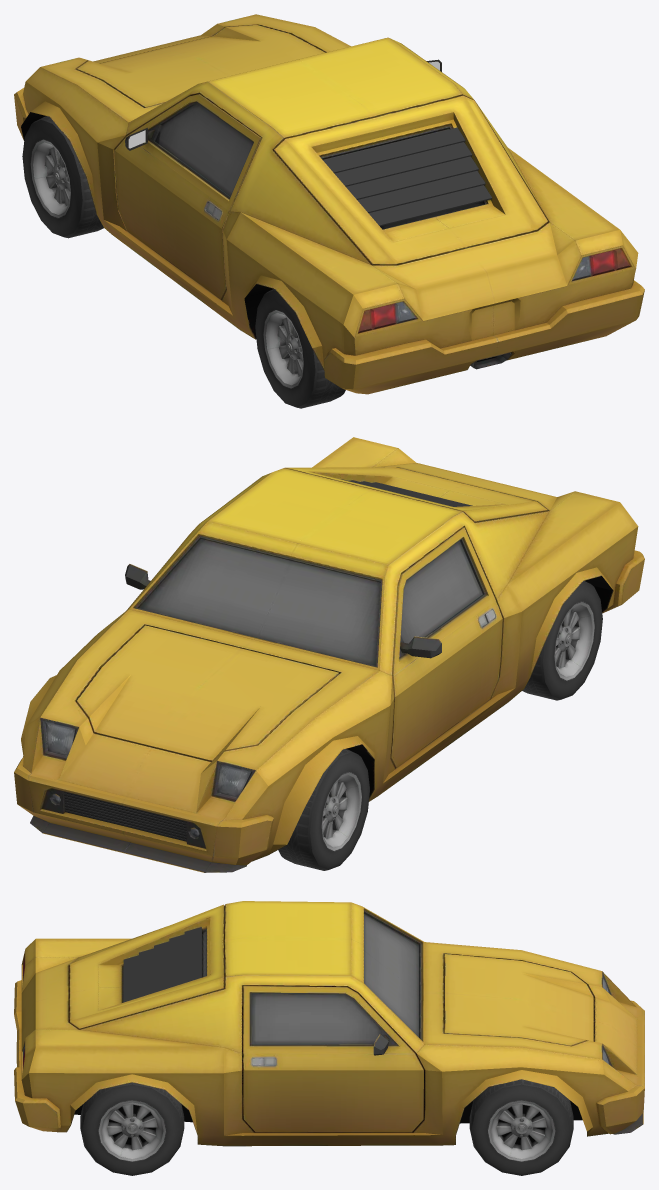
The model's file is retro-wedge.glb.
3 renders of one model, top to bottom at view 1: azimuth 30°, elevation 25°; view 2: azimuth 150°, elevation 25°; view 3: azimuth 270°, elevation 25°, orthographic. The views are drawn at different scales.
Visible parts, largest first — view 1: body, wheel-front-left, wheel-rear-left; view 2: body, wheel-front-left, wheel-rear-left; view 3: body, wheel-front-right, wheel-rear-right.
Part boxes in pixels (<box>): body: <box>14,14,644,394</box>; wheel-front-left: <box>22,116,103,238</box>; wheel-rear-left: <box>255,289,345,408</box>; body: <box>14,437,644,872</box>; wheel-front-left: <box>278,749,369,870</box>; wheel-rear-left: <box>522,581,602,700</box>; body: <box>14,901,644,1146</box>; wheel-front-right: <box>469,1079,573,1175</box>; wheel-rear-right: <box>80,1082,184,1175</box>.
Size of the model in its own units: 2.02 by 1.33 by 4.2.
4 materials, 2 textured.
